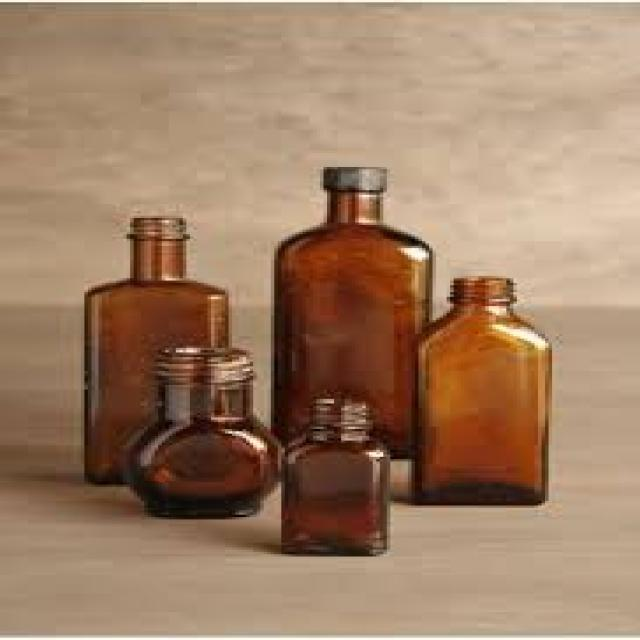Glass-Bottle: (72, 199, 236, 480), (274, 162, 422, 458), (404, 274, 550, 511), (131, 340, 286, 522), (274, 387, 394, 559)
